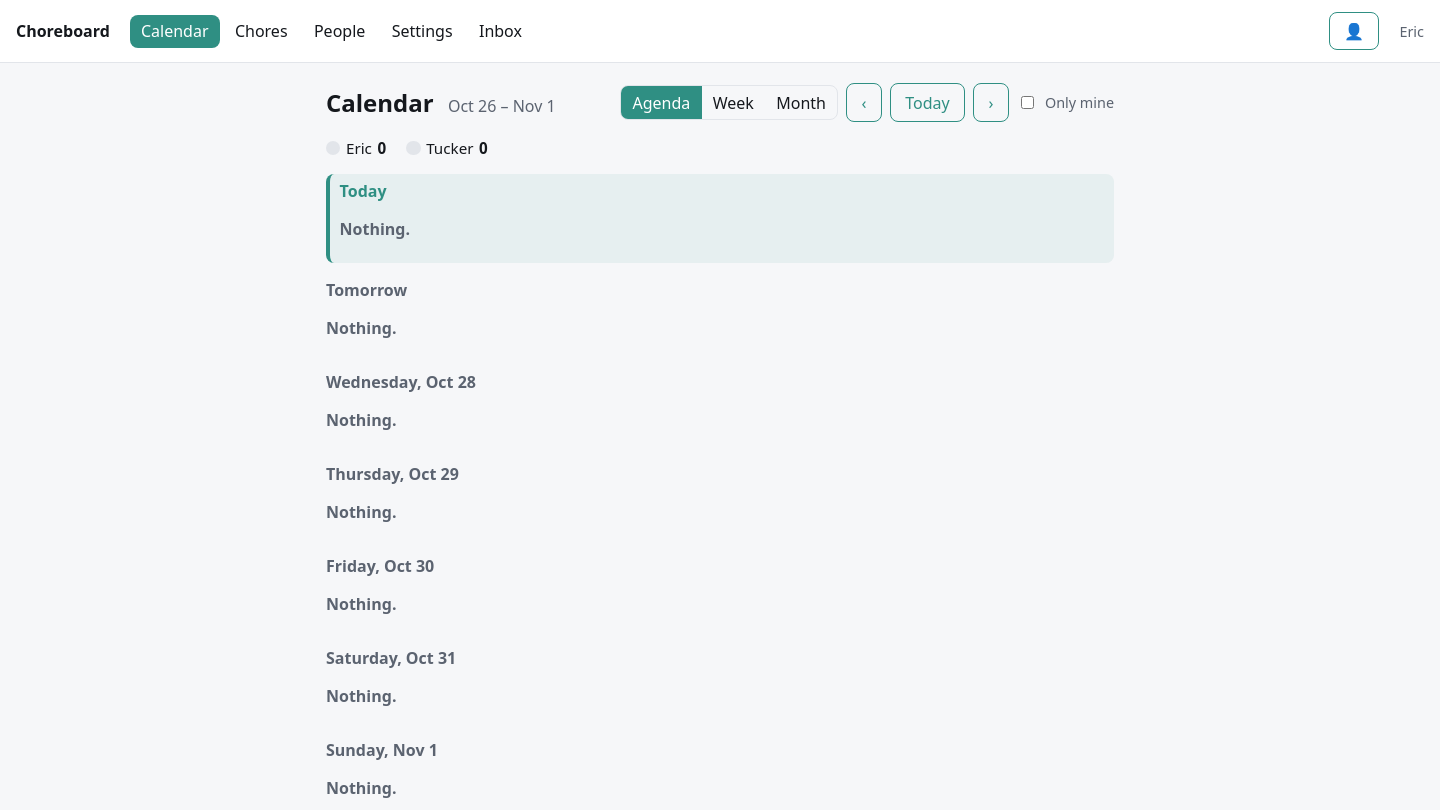
Test case: acting as someone › an admin picks a person; every request then goes as them, until they stop
Step 1. Click the button named "Act as someone else" → (1354, 31), box [1329, 12, 1380, 50]
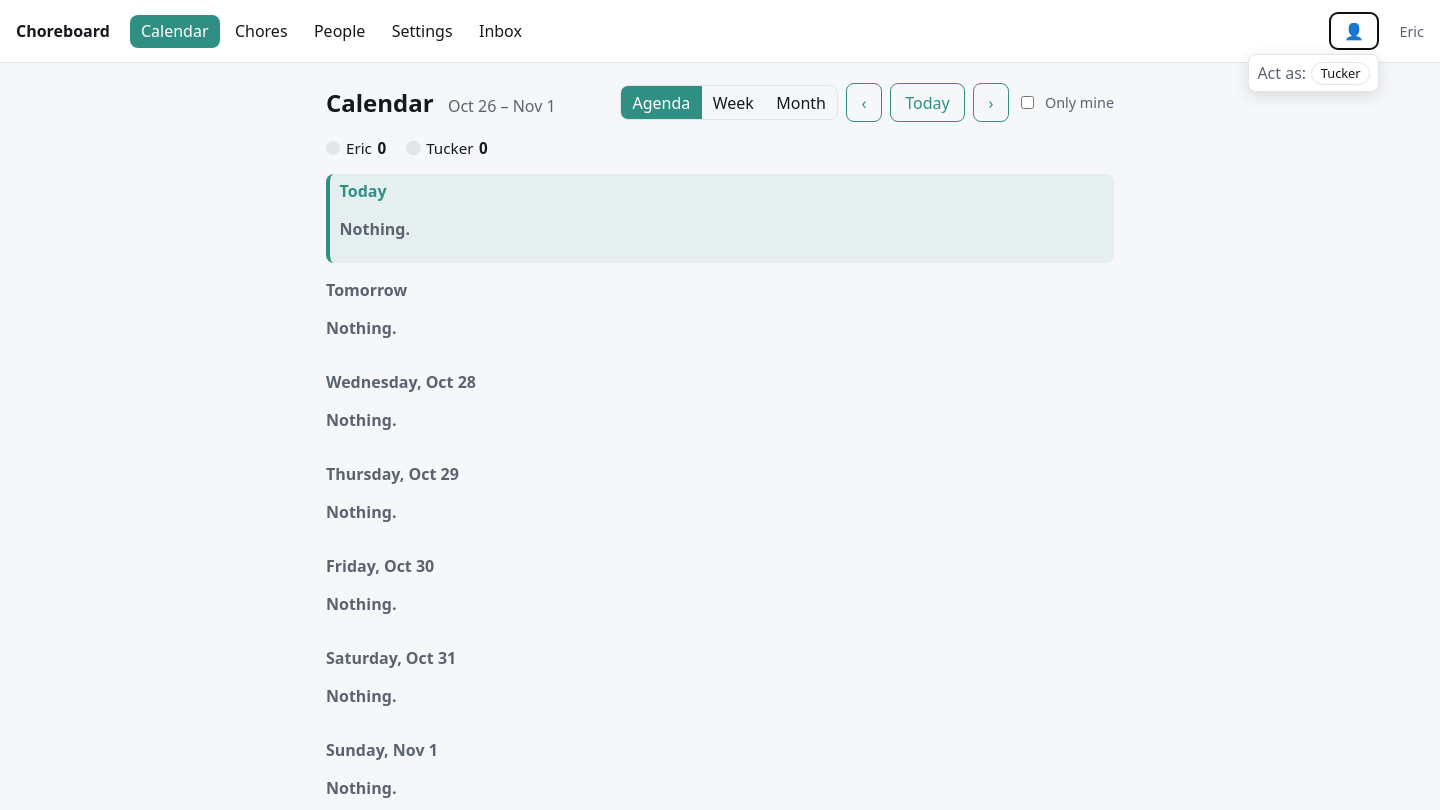
Step 2. Click the menu item "Tucker" → (1341, 73), box [1311, 62, 1370, 85]
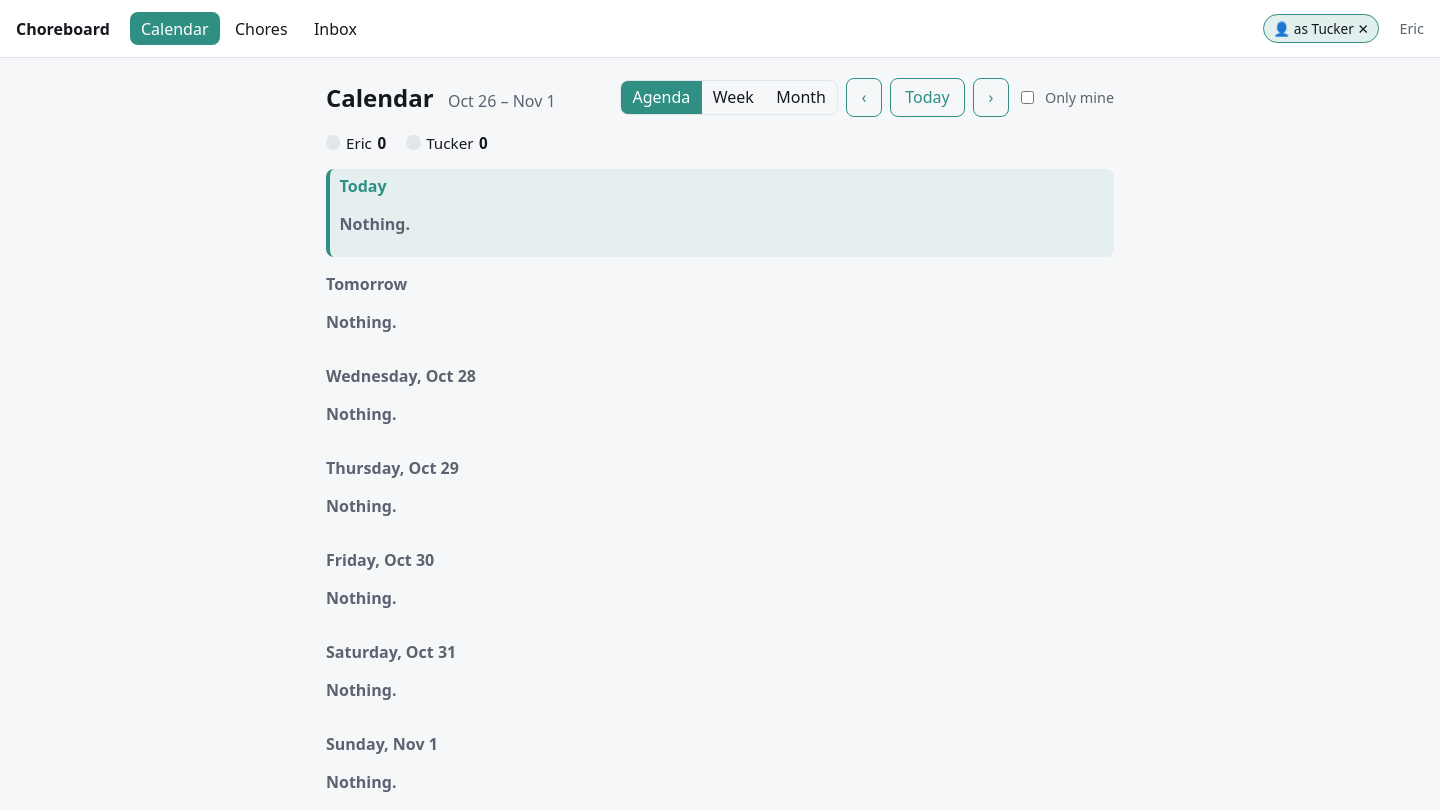
Expected: the link "People" is gone
Step 3. Click the button "👤 as Tucker ✕" → (1321, 29), box [1263, 14, 1380, 43]
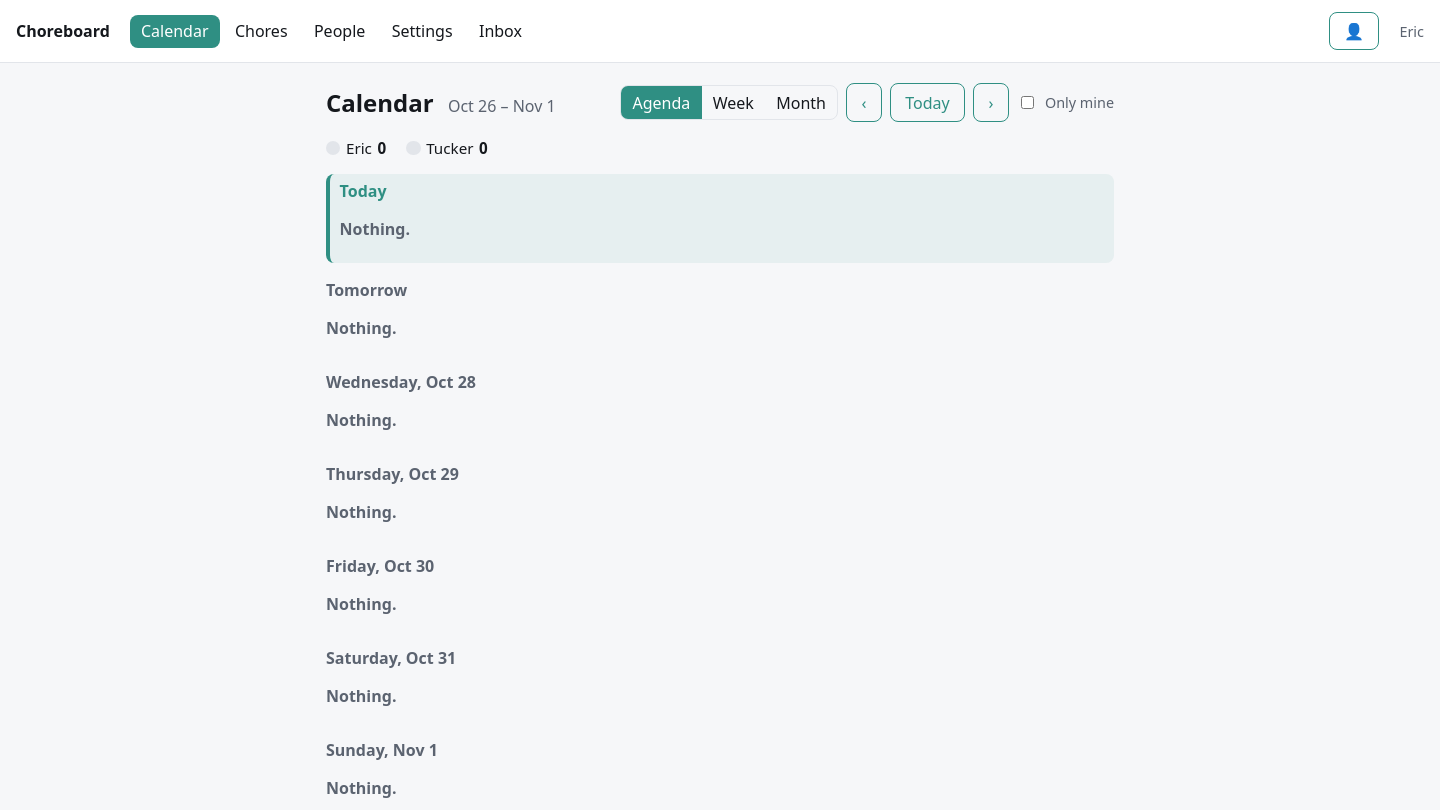
Expected: the link "People" is shown, [314, 20, 365, 42]
